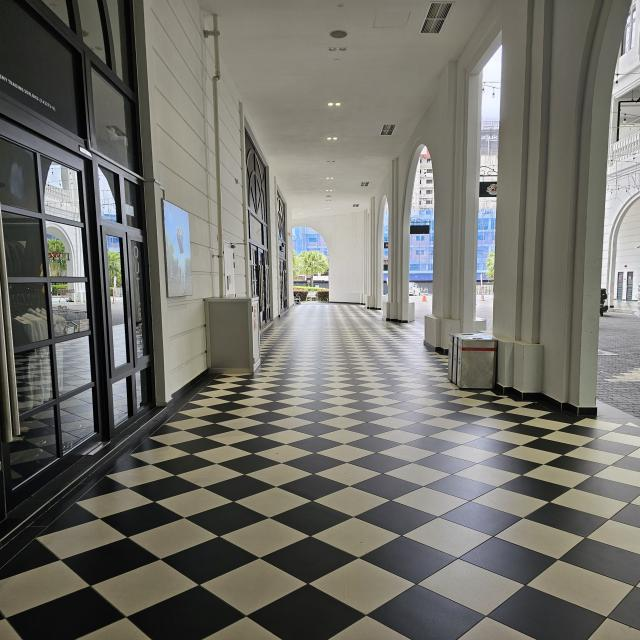footpath: (166, 413, 640, 639)
obstacle: (200, 298, 262, 372), (447, 330, 495, 392)
wall: (487, 151, 607, 417)
